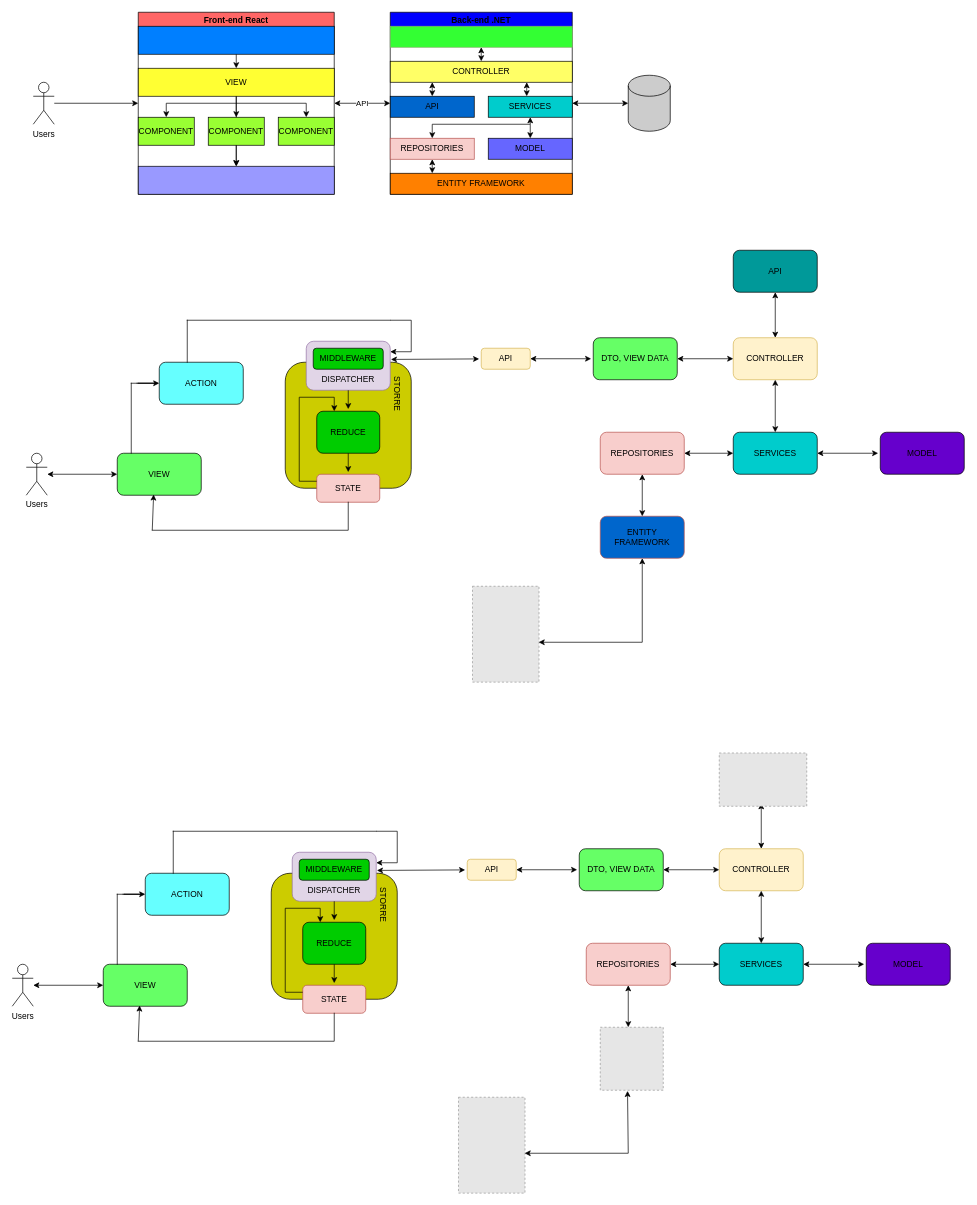
Some shapes in this 977 by 1205 pixel diagram are drawn without their labels. Grey dashed boxes stand in for pictures. Each missing label, with the centre of its shape:
APP ROUTING: (236,40)
Database: (649,103)
DTO: (481,36)
REDUX: (236,180)
